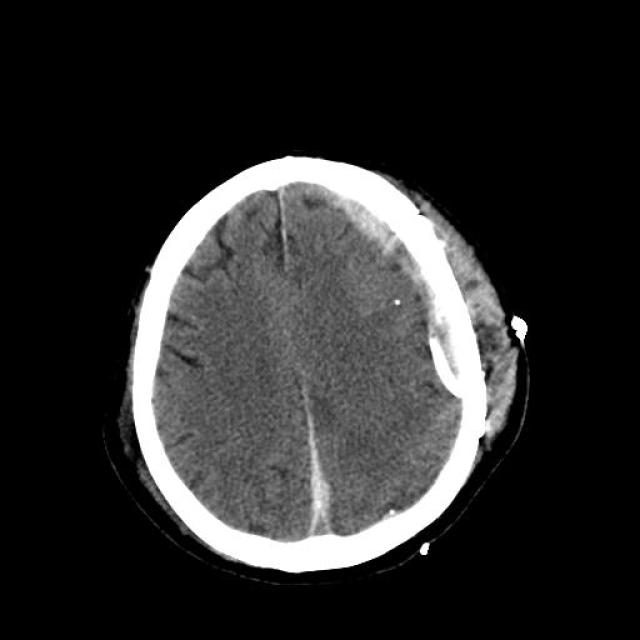Subdural: (305, 171, 479, 400), (274, 403, 358, 548)
